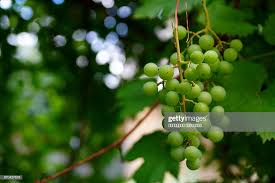grapes: (137, 21, 248, 173)
